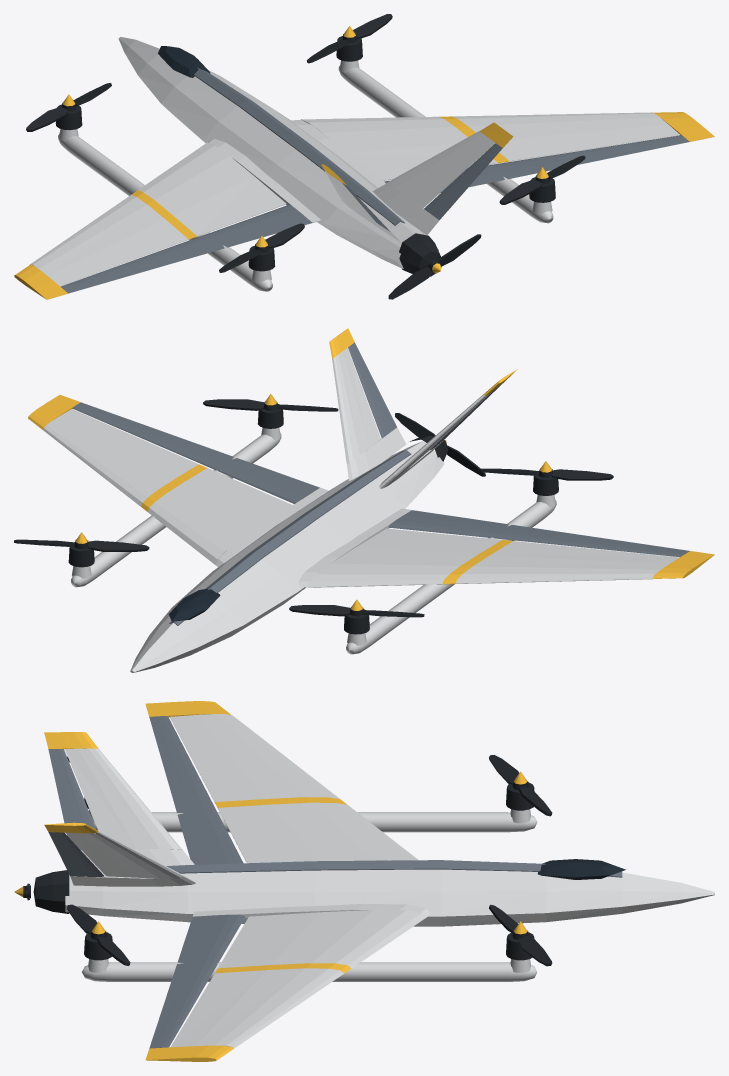
File: vtol-98kUwUjk.glb
3 renders of one model, top to bottom at view 1: azimuth 30°, elevation 25°; view 2: azimuth 150°, elevation 25°; view 3: azimuth 270°, elevation 25°, orthographic. The views are drawn at different scales.
Visible parts, largest first — view 1: Body, Trim, Dark, Mid, AileronRightMid, AileronLeftMid, FlapLeftMid, RuddervatorRightMid, PropellerDark, LiftPropeller4Dark, LiftPropeller3Dark, LiftPropeller1Dark (+3 smaller); view 2: Body, Trim, Mid, Dark, AileronRightMid, FlapRightMid, AileronLeftMid, FlapLeftMid, RuddervatorRightMid, LiftPropeller4Dark, LiftPropeller2Dark, LiftPropeller3Dark (+3 smaller); view 3: Body, Trim, Mid, Dark, AileronLeftMid, FlapLeftMid, FlapRightMid, AileronRightMid, RuddervatorLeftMid, Glass, RuddervatorRightMid, LiftPropeller1Dark (+2 smaller).
Boxes of the visible parts, <box> form: Body: <box>30,37,680,291</box>; Trim: <box>14,112,714,299</box>; Dark: <box>55,36,555,276</box>; Mid: <box>194,67,404,225</box>; AileronRightMid: <box>500,135,689,177</box>; AileronLeftMid: <box>61,237,216,293</box>; FlapLeftMid: <box>199,204,312,250</box>; RuddervatorRightMid: <box>424,143,502,219</box>; PropellerDark: <box>388,234,481,299</box>; LiftPropeller4Dark: <box>499,155,585,204</box>; LiftPropeller3Dark: <box>26,83,111,131</box>; LiftPropeller1Dark: <box>306,14,392,63</box>; Body: <box>43,348,679,672</box>; Trim: <box>28,328,714,584</box>; Mid: <box>169,450,411,625</box>; Dark: <box>68,404,558,634</box>; AileronRightMid: <box>72,402,225,466</box>; FlapRightMid: <box>209,454,319,503</box>; AileronLeftMid: <box>504,526,689,556</box>; FlapLeftMid: <box>388,510,520,539</box>; RuddervatorRightMid: <box>348,342,396,438</box>; LiftPropeller4Dark: <box>203,399,338,411</box>; LiftPropeller2Dark: <box>478,468,613,480</box>; LiftPropeller3Dark: <box>289,605,424,617</box>; Body: <box>64,714,714,1048</box>; Trim: <box>44,701,351,1061</box>; Mid: <box>103,860,622,877</box>; Dark: <box>33,782,534,960</box>; AileronLeftMid: <box>149,716,214,807</box>; FlapLeftMid: <box>175,806,243,864</box>; FlapRightMid: <box>176,914,244,968</box>; AileronRightMid: <box>149,967,214,1048</box>; RuddervatorLeftMid: <box>48,749,96,849</box>; Glass: <box>537,859,625,879</box>; RuddervatorRightMid: <box>48,832,104,876</box>; LiftPropeller1Dark: <box>489,904,552,966</box>.
Bounding box in the file's own units: 2 × 0.3632 × 1.66.
